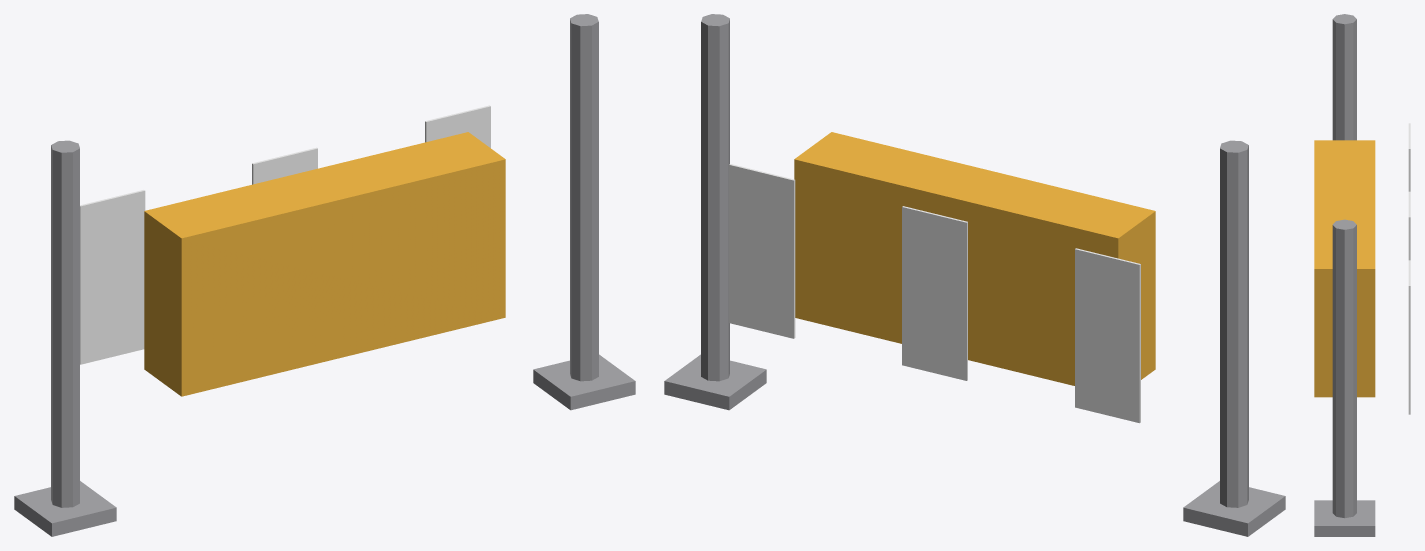
File: mesh_barrier.fbx
3 renders of one model, left to right at view 1: azimuth 30°, elevation 25°; view 2: azimuth 150°, elevation 25°; view 3: azimuth 270°, elevation 25°, orthographic. The views are drawn at different scales.
Parts seen in each view (by area): view 1: mesh_barrier; view 2: mesh_barrier; view 3: mesh_barrier.
Boxes of the visible parts, box(x1,y1,x2,y2) form: mesh_barrier: box(14, 14, 635, 536); mesh_barrier: box(664, 14, 1285, 536); mesh_barrier: box(1314, 14, 1410, 536).
Size of the model in its own units: 1.35 by 0.815 by 0.2375.
